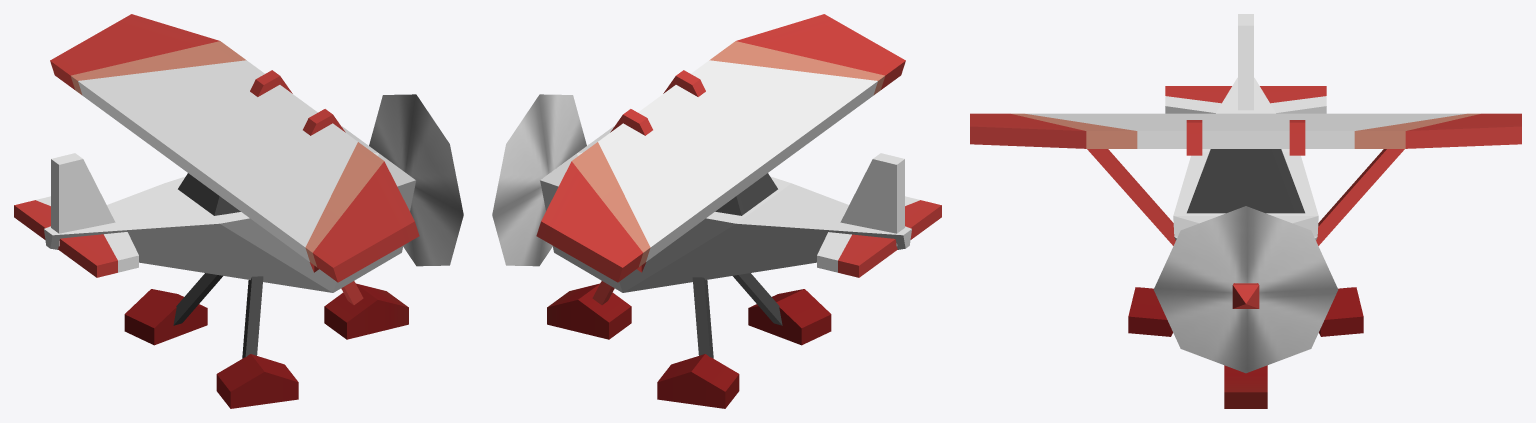
File: touch_object_voucher.fbx
The picture shows the model from 3 angles, left to right: view 1: azimuth 30°, elevation 25°; view 2: azimuth 150°, elevation 25°; view 3: azimuth 270°, elevation 25°; orthographic projection. The views are drawn at different scales.
Visible parts, largest first — view 1: body, propeller; view 2: body, propeller; view 3: body, propeller.
Part boxes in pixels (left/top/right/bottom): body: left=14, top=14, right=419, bottom=408; propeller: left=369, top=94, right=463, bottom=266; body: left=536, top=14, right=941, bottom=408; propeller: left=492, top=94, right=586, bottom=266; body: left=970, top=14, right=1521, bottom=408; propeller: left=1153, top=206, right=1338, bottom=373.
Size of the model in its own units: 4900 by 2908 by 6037.
